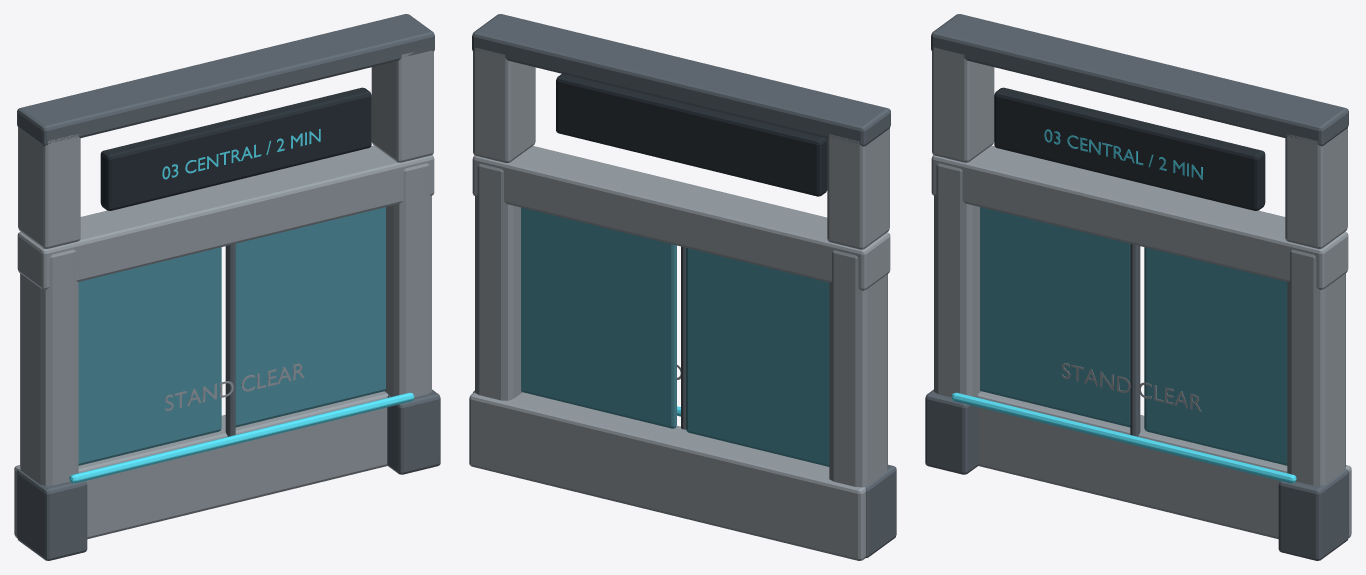
The model's file is 5_Wall.fbx.
3 views of the same model, side by side, from view 1: azimuth 30°, elevation 25°; view 2: azimuth 150°, elevation 25°; view 3: azimuth 330°, elevation 25° (orthographic).
Parts seen in each view (by area): view 1: Body; view 2: Body; view 3: Body.
Part boxes in pixels (left/top/right/bottom): Body: left=14, top=14, right=440, bottom=560; Body: left=469, top=14, right=896, bottom=560; Body: left=925, top=14, right=1351, bottom=560.
Bounding box in the file's own units: 4.03 × 4.2 × 0.625.
